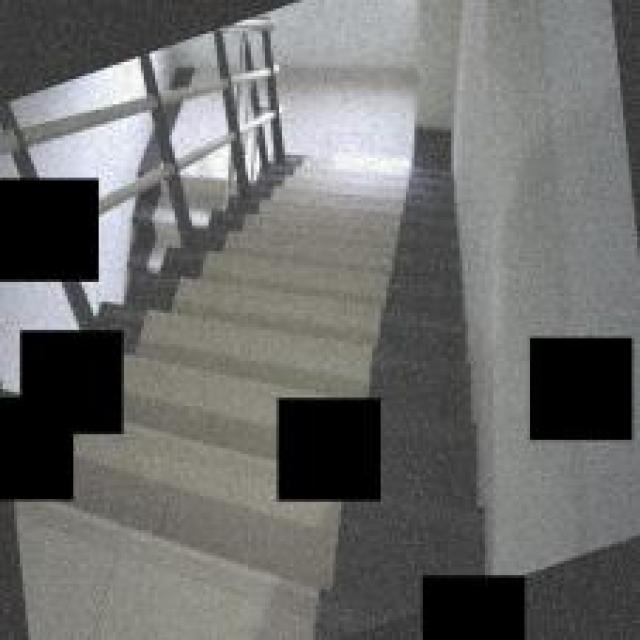downstair: (245, 132, 496, 392)
